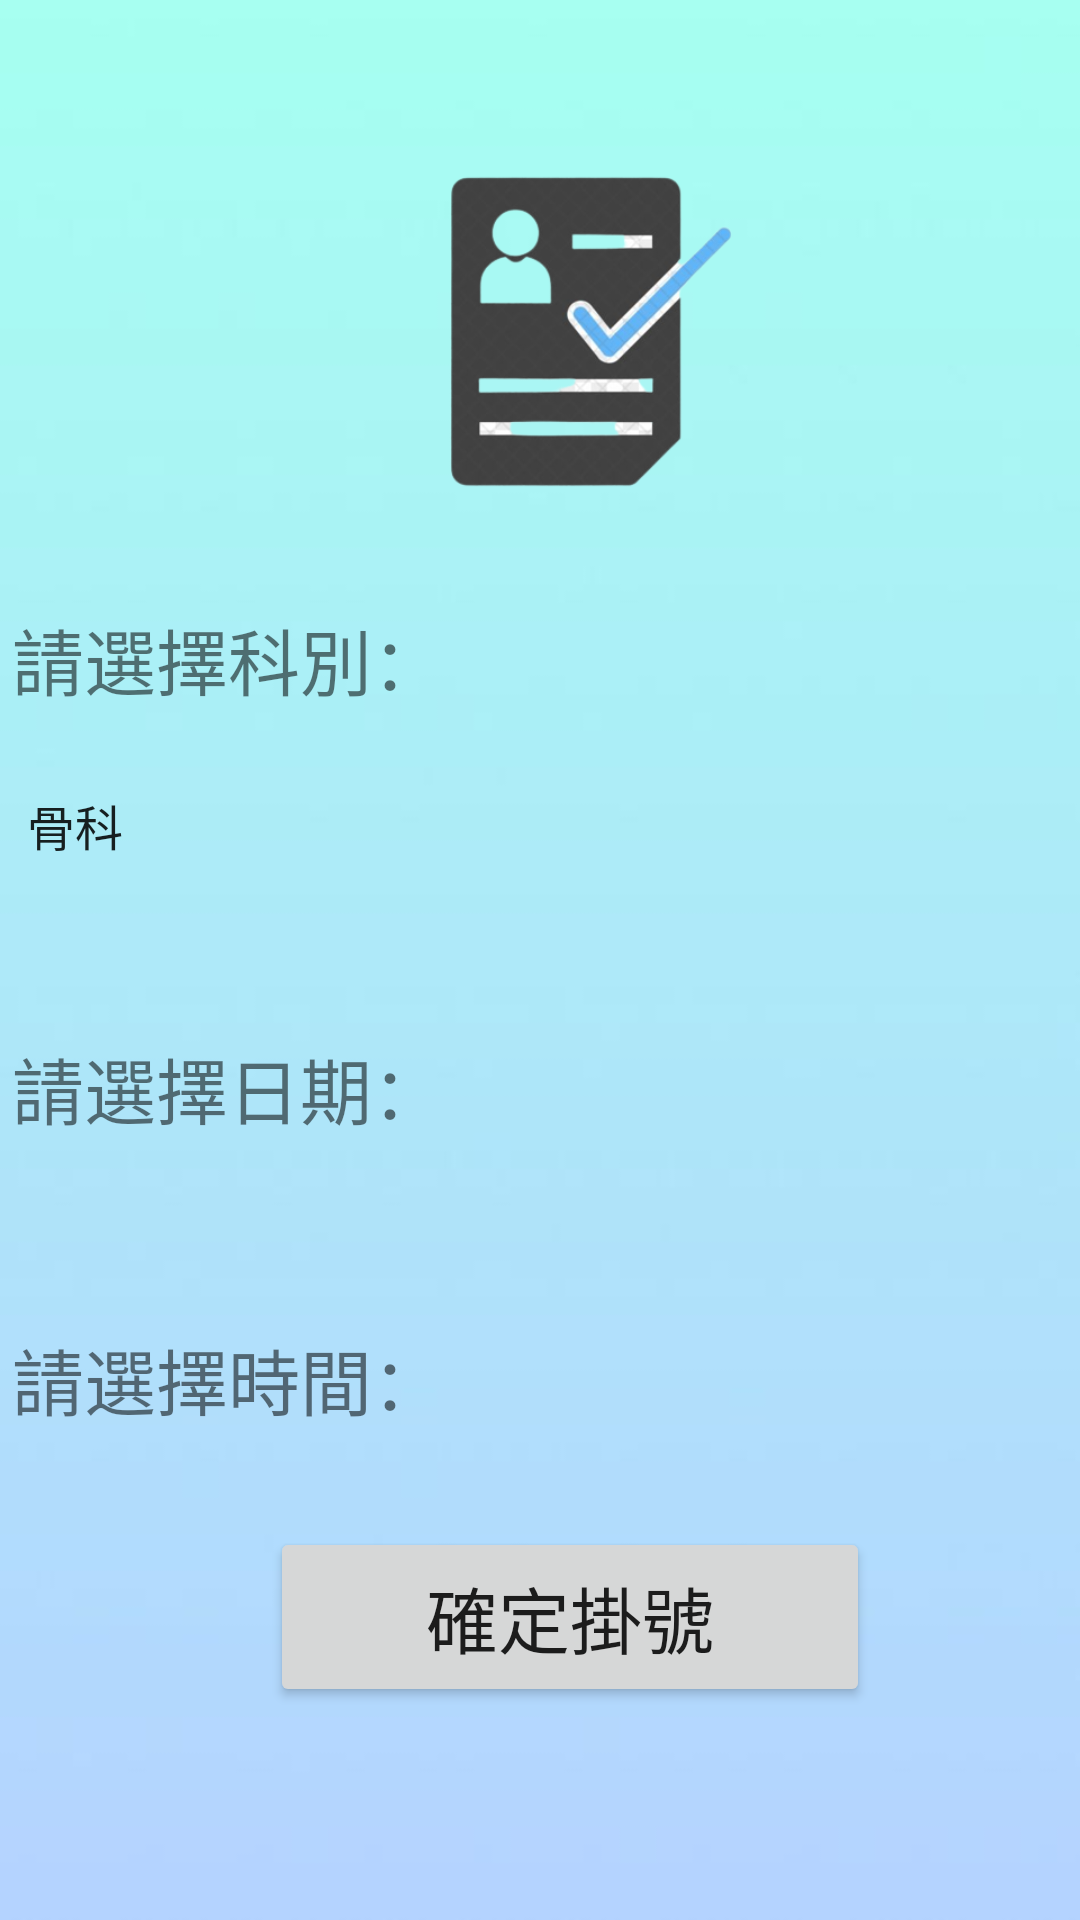

Named icons in this screenshot (1080px x 1920px) and their centers, (x,y):
registered: (591,331)
